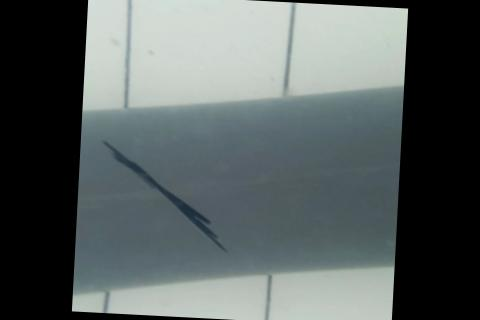keretakan: (95, 137, 235, 251)
